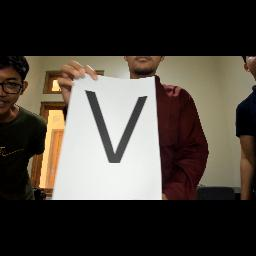v: (80, 84, 152, 168)
